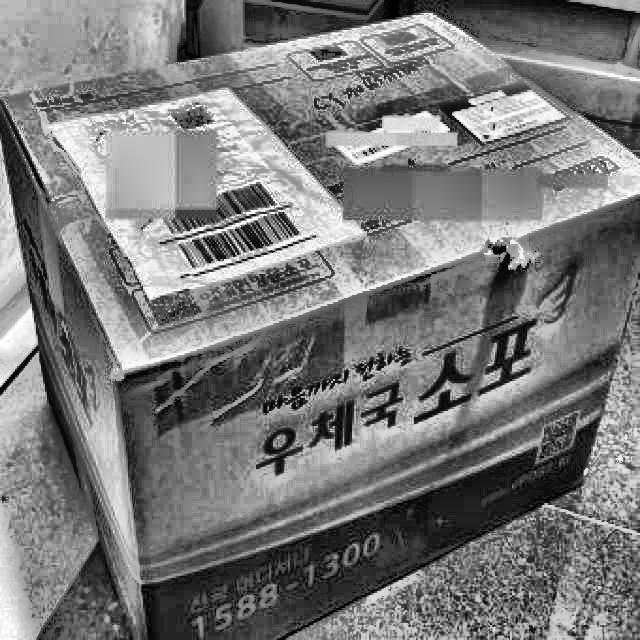box: (3, 0, 639, 638)
hole: (477, 233, 533, 275)
